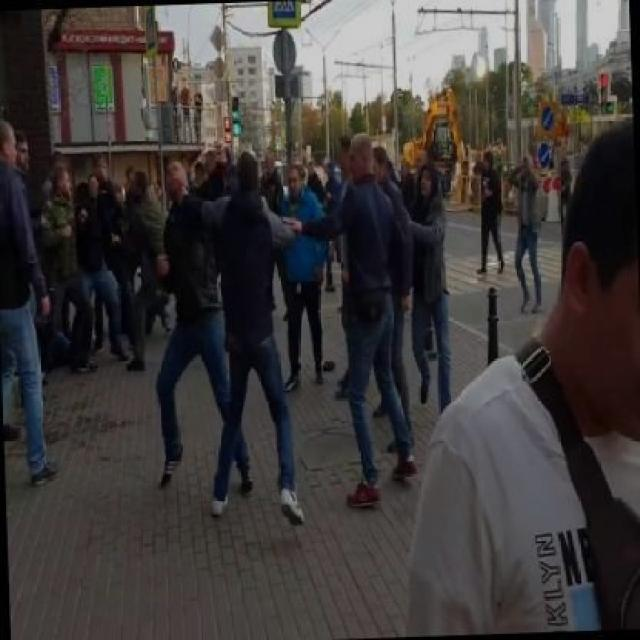fight: (143, 142, 311, 529), (70, 147, 172, 375)
non-fight: (392, 107, 639, 640), (308, 130, 421, 510), (0, 103, 63, 495), (402, 158, 457, 419), (272, 160, 330, 393), (506, 160, 548, 316), (469, 148, 508, 278)
